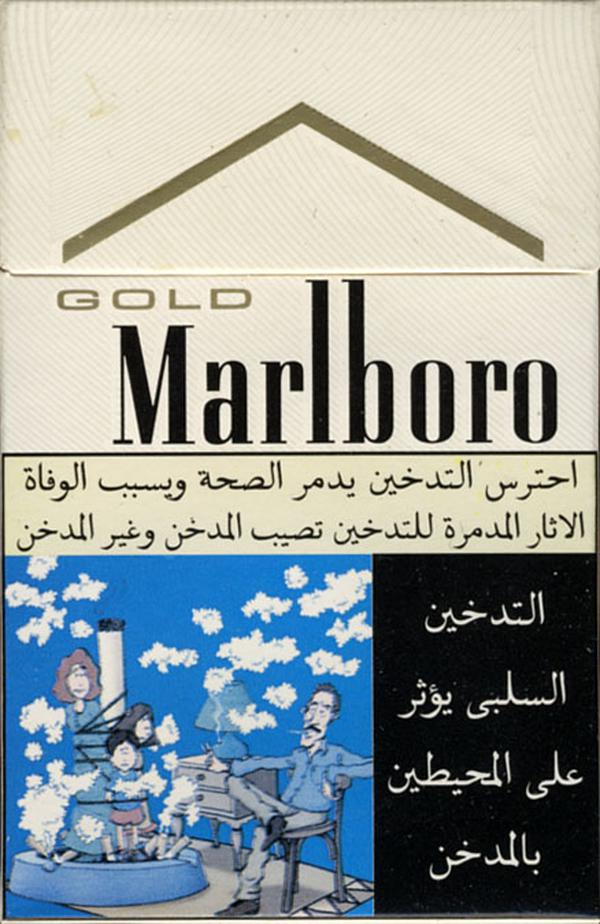marlboro_gold: (9, 4, 596, 912)
